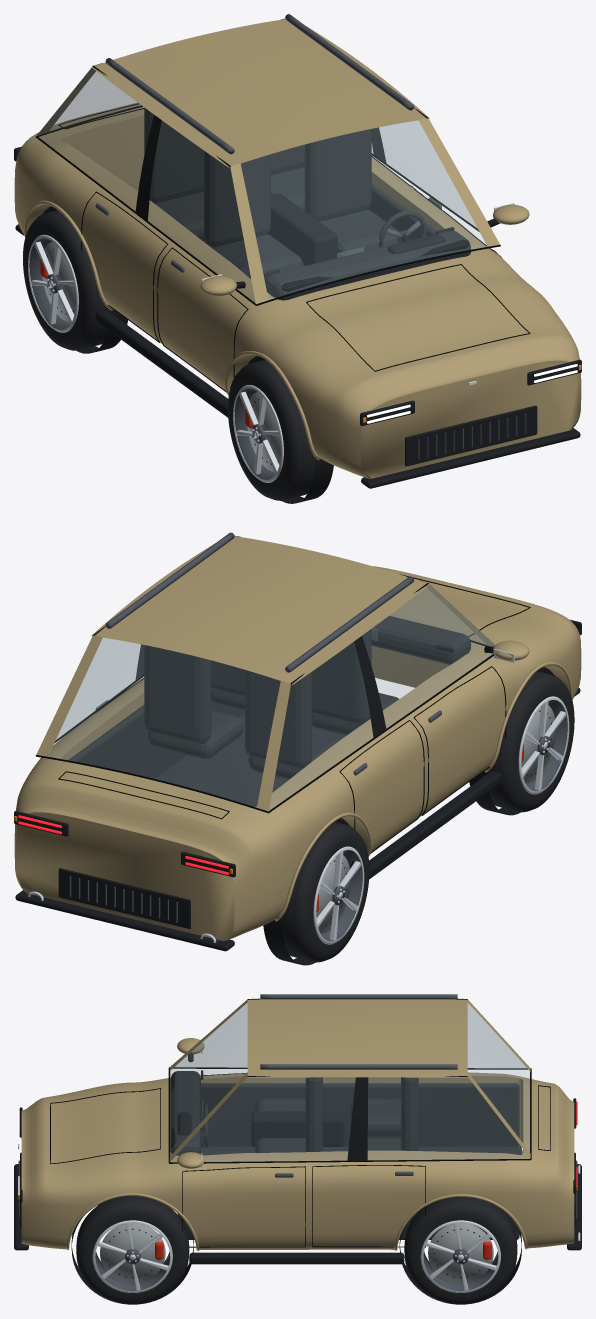
File: trail.glb
3 views of the same model, one above another, from view 1: azimuth 30°, elevation 25°; view 2: azimuth 150°, elevation 25°; view 3: azimuth 270°, elevation 25° (orthographic). The views are drawn at different scales.
Parts seen in each view (by area): view 1: Sculpted body shell.017, Windshield.017, Painted roof.017, Side glass.034, Interior seat back.059, Tire.070, Interior dashboard.017, Tire.068, Interior seat back.058, Side glass.035, Front grille housing.017, Interior seat back.060 (+26 smaller); view 2: Sculpted body shell.017, Rear glass.017, Painted roof.017, Side glass.034, Interior seat back.061, Tire.068, Interior seat back.060, Tire.070, Interior cabin floor.017, Interior door card.035, Rear diffuser grille.017, Interior seat back.058 (+30 smaller); view 3: Sculpted body shell.017, Side glass.035, Painted roof.017, Interior door card.034, Windshield.017, Tire.071, Tire.069, Rear glass.017, Side glass.034, Rocker aero sill.035, Brake disc.071, Brake disc.069 (+27 smaller).
Boxes of the visible parts, box(x1,y1,x2,y2) form: Sculpted body shell.017: box(14, 102, 581, 478); Windshield.017: box(241, 121, 486, 299); Painted roof.017: box(99, 19, 421, 164); Side glass.034: box(37, 68, 255, 302); Interior seat back.059: box(304, 129, 371, 221); Tire.070: box(228, 359, 315, 500); Interior dashboard.017: box(265, 230, 470, 300); Tire.068: box(23, 210, 110, 350); Interior seat back.058: box(204, 151, 270, 247); Side glass.035: box(372, 121, 476, 227); Front grille housing.017: box(405, 405, 537, 466); Interior seat back.060: box(144, 107, 203, 203); Sculpted body shell.017: box(14, 566, 581, 941); Rear glass.017: box(49, 638, 280, 807); Painted roof.017: box(100, 536, 421, 681); Side glass.034: box(269, 585, 494, 810); Interior seat back.061: box(144, 645, 211, 743); Tire.068: box(281, 822, 369, 962); Interior seat back.060: box(245, 670, 311, 768); Tire.070: box(487, 671, 574, 812); Interior cabin floor.017: box(155, 713, 345, 806); Interior door card.035: box(68, 701, 244, 778); Rear diffuser grille.017: box(58, 868, 190, 928); Interior seat back.058: box(312, 629, 371, 724); Sculpted body shell.017: box(21, 1072, 574, 1249); Side glass.035: box(171, 1077, 529, 1161); Painted roof.017: box(247, 999, 467, 1076); Interior door card.034: box(201, 1083, 519, 1146); Windshield.017: box(170, 1003, 247, 1155); Tire.071: box(76, 1196, 189, 1304); Tire.069: box(404, 1197, 517, 1304); Rear glass.017: box(468, 1003, 529, 1151); Side glass.034: box(176, 1004, 525, 1067); Rocker aero sill.035: box(189, 1252, 404, 1264); Brake disc.071: box(100, 1223, 165, 1282); Brake disc.069: box(428, 1223, 493, 1282).
Bounding box in the file's own units: 2.39 × 1.99 × 4.52.
